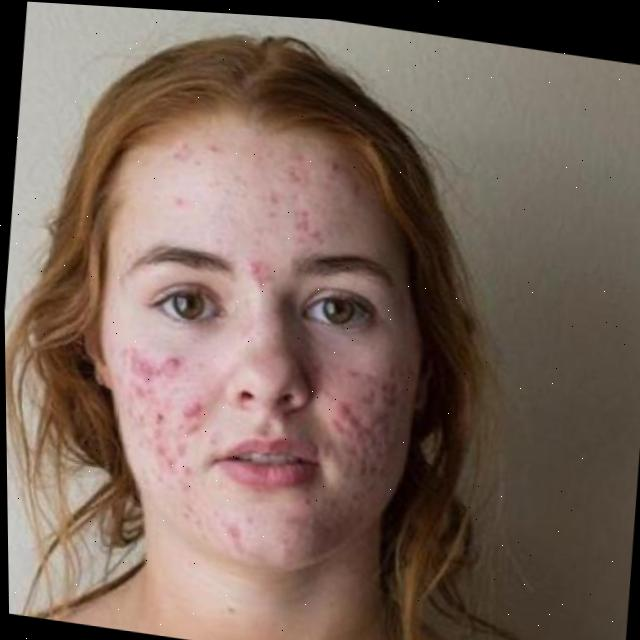Acne: (165, 110, 356, 286), (299, 350, 417, 491), (125, 341, 211, 454)
